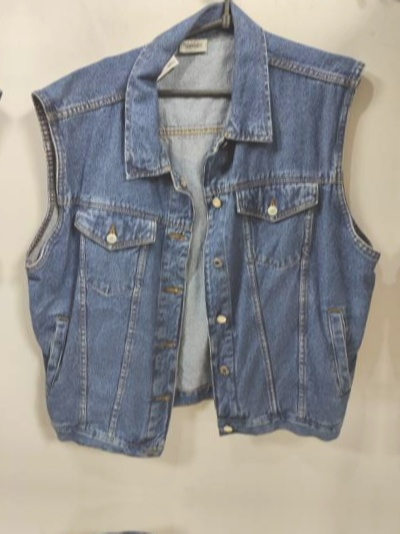Blazer: (14, 0, 383, 468), (0, 0, 6, 447), (0, 527, 353, 534)
